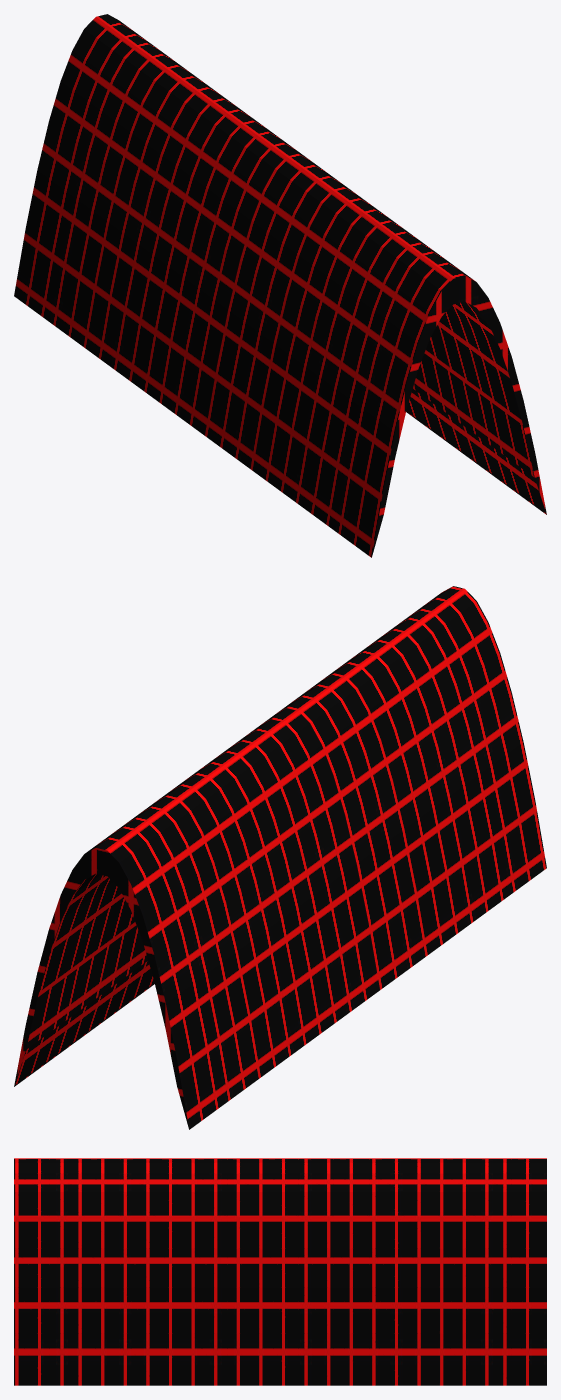
Rendered from parabolic_cylinder_40_grid.obj.
3 views of the same model, one above another, from view 1: azimuth 30°, elevation 25°; view 2: azimuth 150°, elevation 25°; view 3: azimuth 270°, elevation 25° (orthographic). The views are drawn at different scales.
Visible parts, largest first — view 1: z_20_Z_Function; view 2: z_20_Z_Function; view 3: z_20_Z_Function.
Boxes of the visible parts, left/top/right/bottom form: z_20_Z_Function: left=14, top=14, right=546, bottom=557; z_20_Z_Function: left=14, top=586, right=546, bottom=1129; z_20_Z_Function: left=14, top=1158, right=546, bottom=1385.
Size of the model in its own units: 28.3 by 40 by 100.
1 material, 1 textured.
